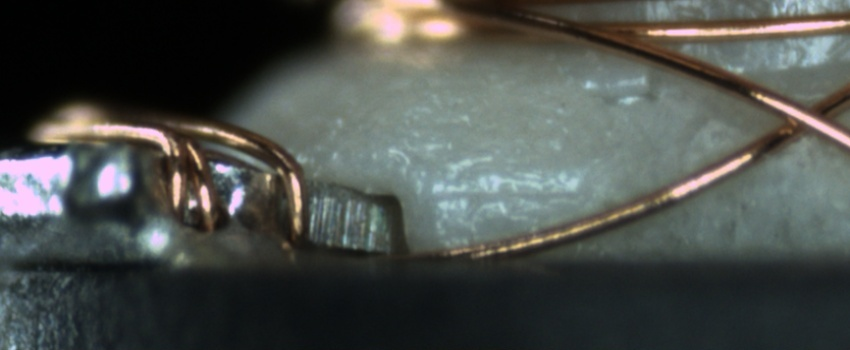CL: (752, 82, 847, 149)
DL: (413, 162, 604, 226)
TE: (24, 96, 317, 250)
